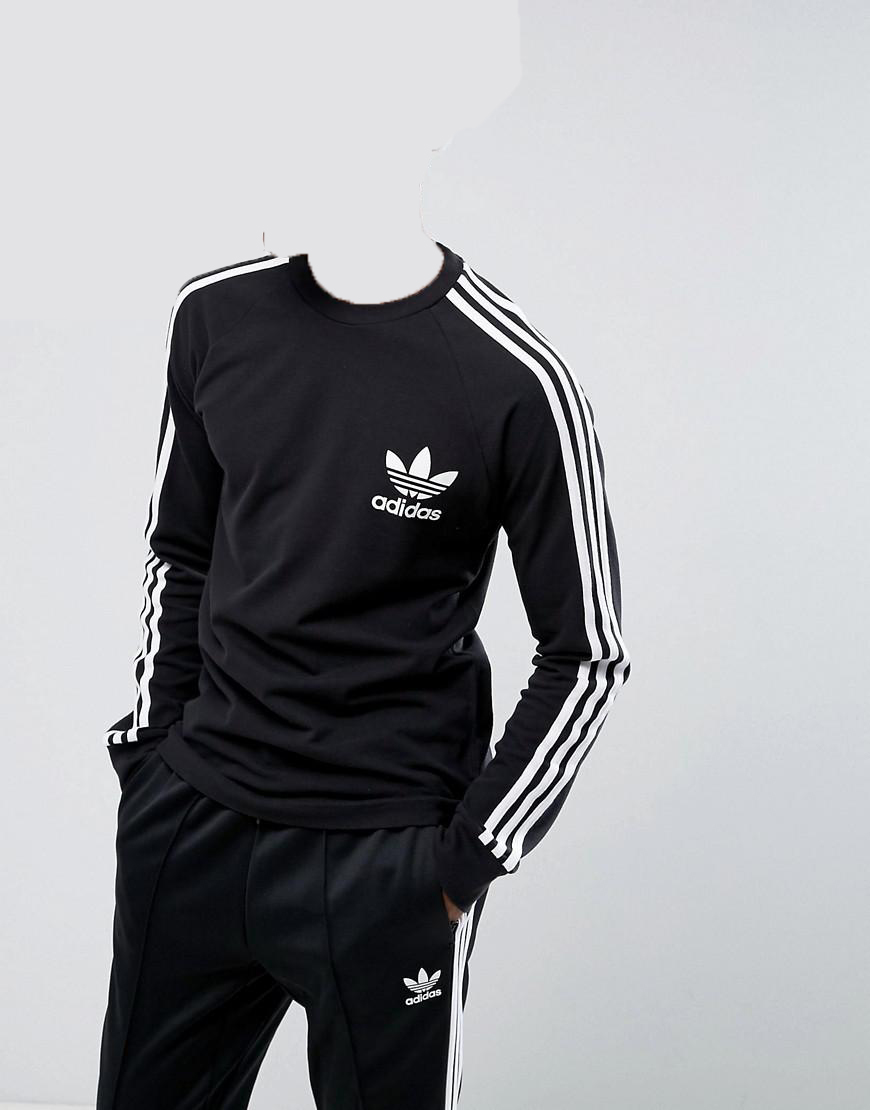teeshirt: (96, 246, 634, 876)
